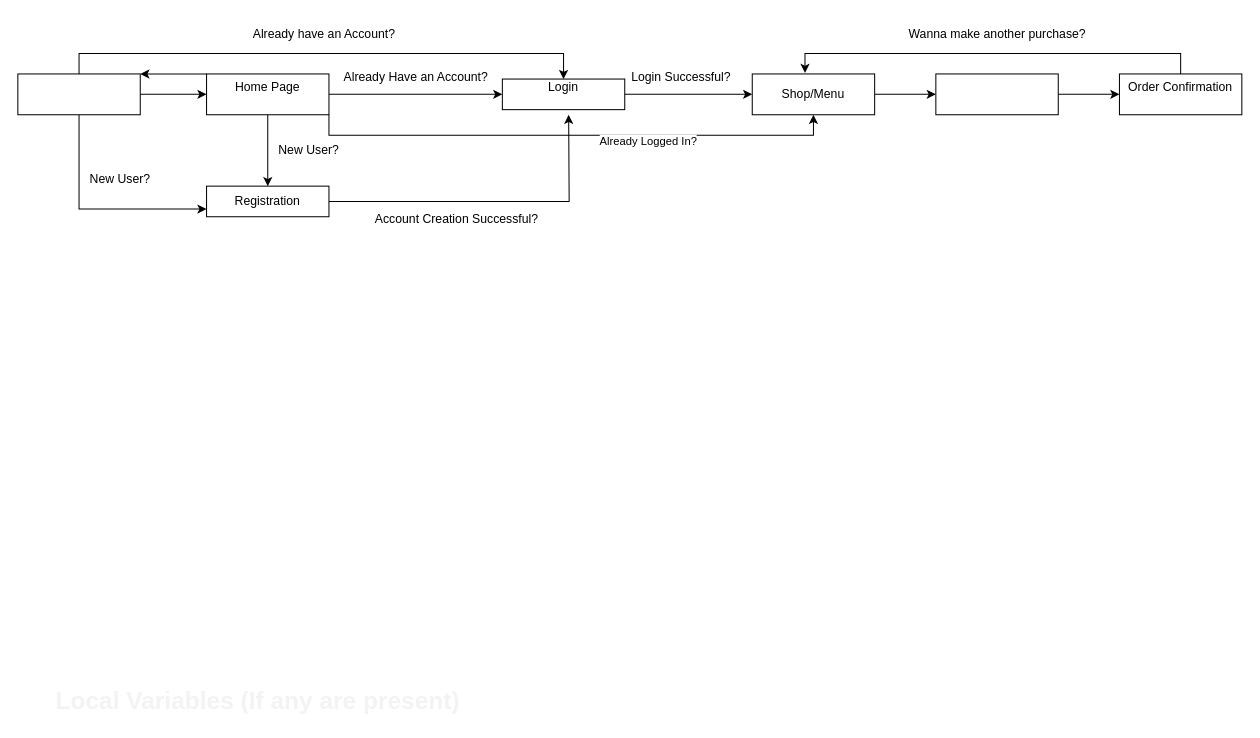
Image size: 1260x738. Some labels were removed from this diagram. The shapes that lost their labels are listed below. From the top down, each one's centre as x and y in pixels, then its label:
At (x=78, y=94): "About Page".
At (x=996, y=94): "Checkout".
